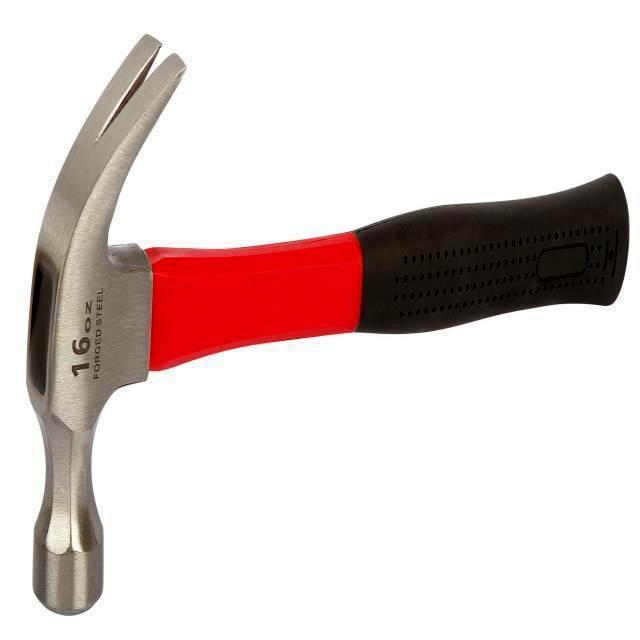hammer: (22, 1, 640, 617)
